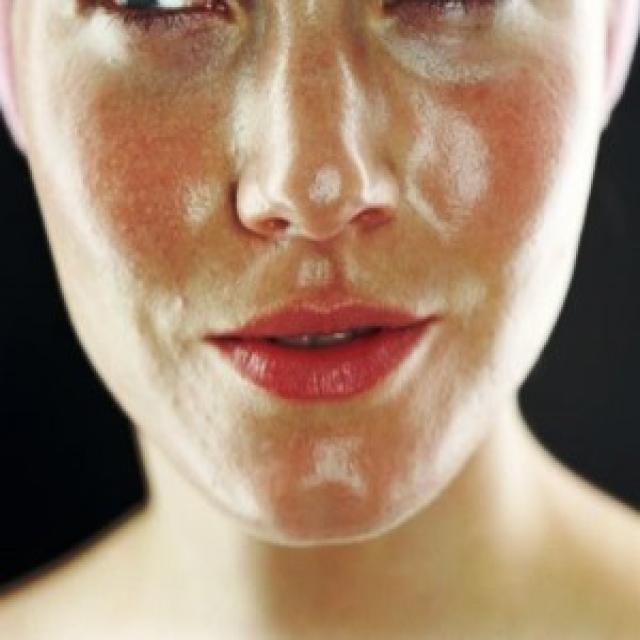Oily-Skin: (233, 0, 297, 225), (335, 12, 403, 216), (413, 86, 490, 249), (373, 6, 519, 86), (300, 425, 370, 500), (408, 274, 484, 320), (182, 182, 222, 227), (308, 164, 342, 208)
